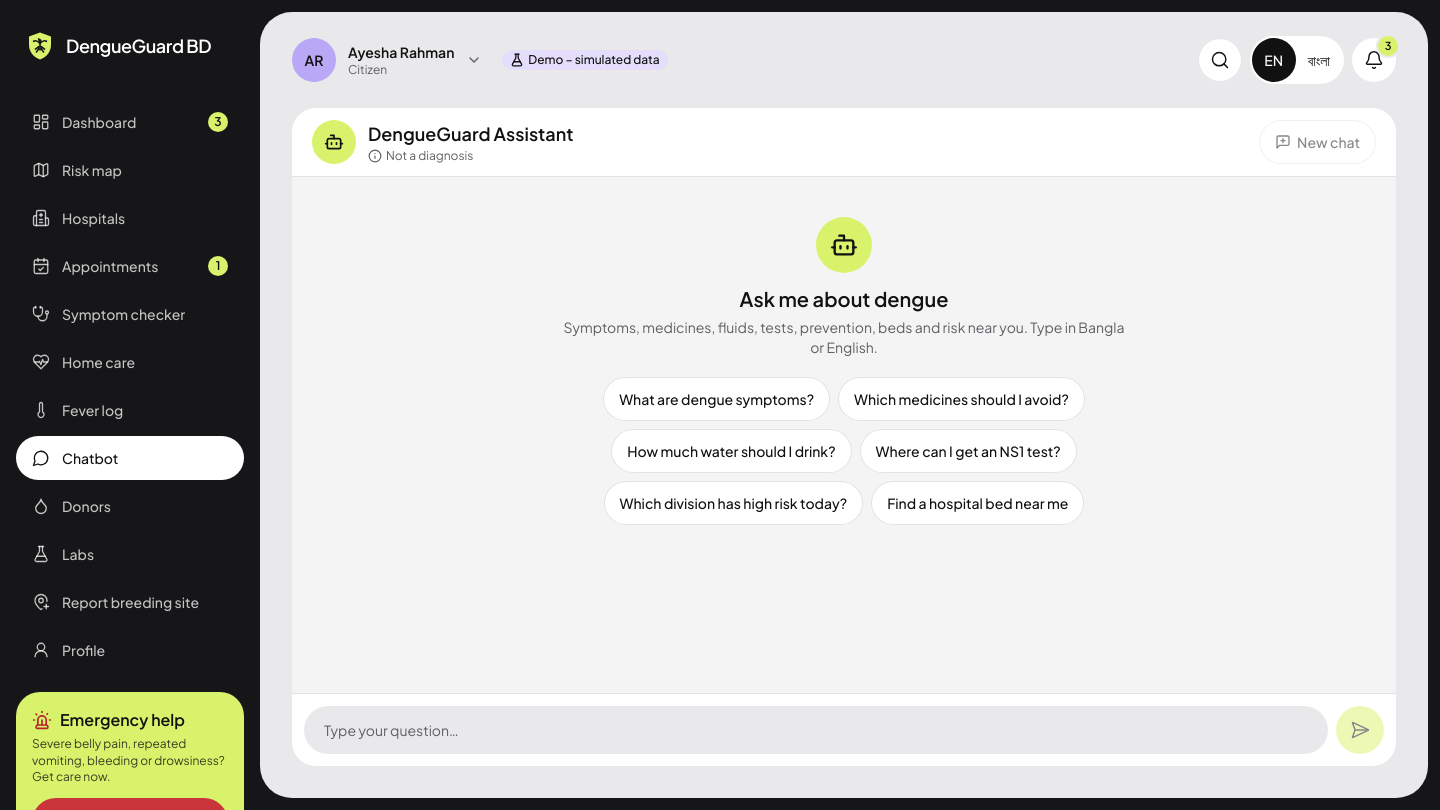
Test: Chatbot (/chatbot) › answers a suggested question with source chips and a disclaimer
Click the button "What are dengue symptoms?": (717, 399) x1=603 y1=377 x2=830 y2=421
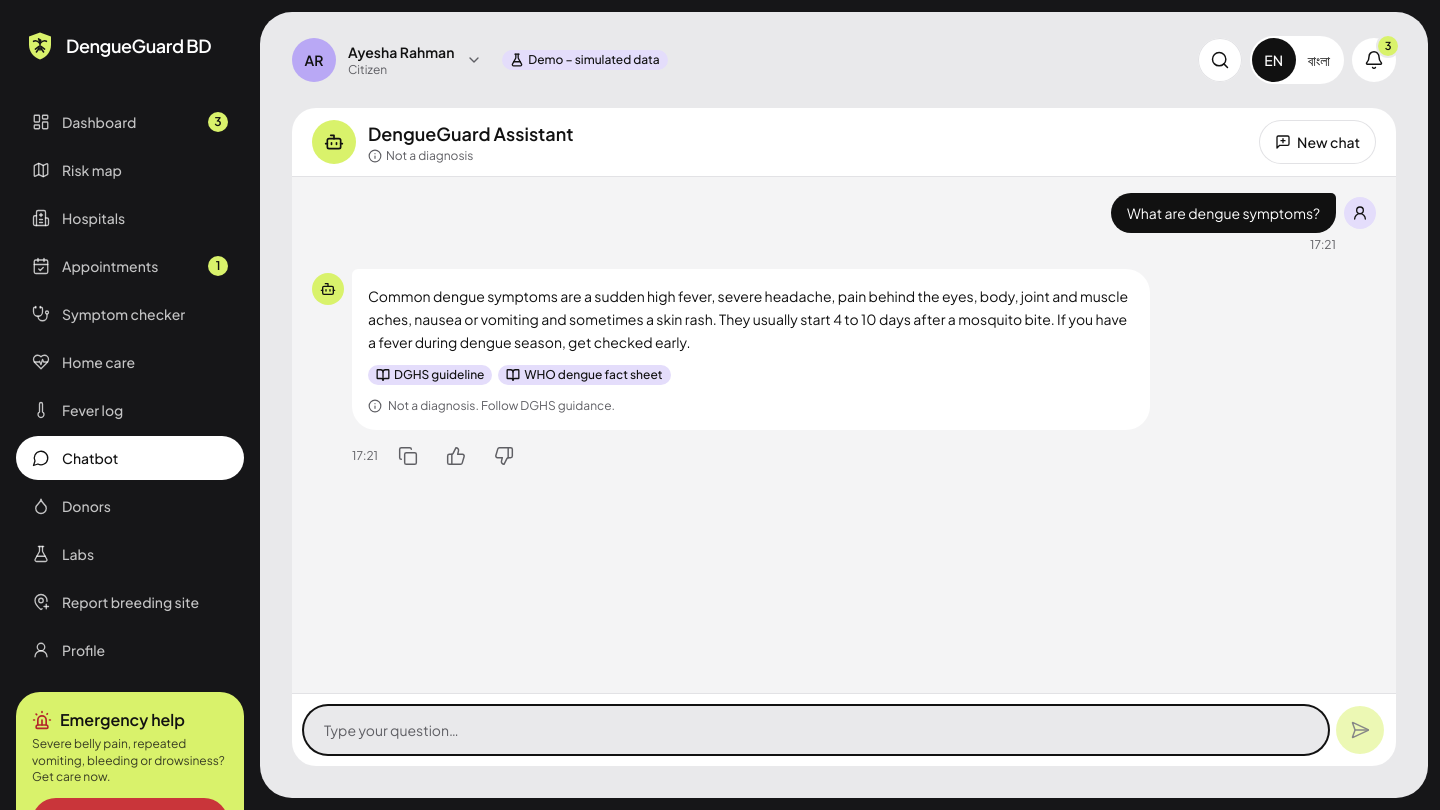
expect the text "sudden high fever" is shown: met, box x1=368 y1=287 x2=1130 y2=350
expect the text "DGHS guideline" is shown: met, box x1=368 y1=365 x2=492 y2=385
expect the text "WHO dengue fact sheet" is shown: met, box x1=498 y1=365 x2=671 y2=385
